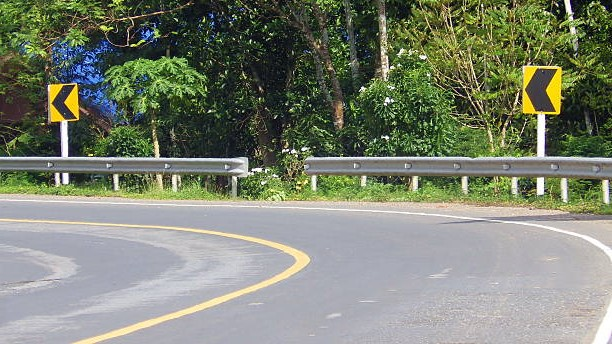leftTrun: (8, 195, 476, 332)
